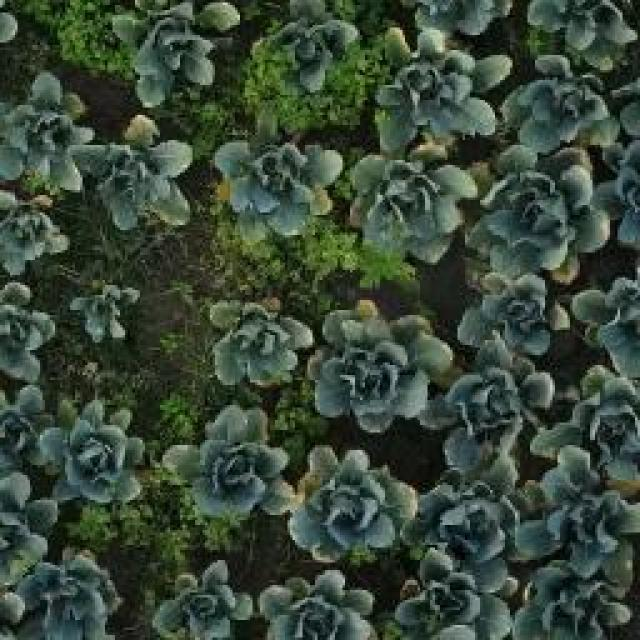cabbage: (311, 296, 452, 431), (284, 443, 414, 562), (157, 405, 289, 521), (374, 25, 499, 143), (432, 350, 558, 464), (522, 457, 640, 575), (356, 147, 474, 264), (214, 138, 344, 244), (78, 114, 193, 228), (111, 0, 242, 100), (478, 150, 588, 268), (38, 398, 145, 509), (454, 268, 570, 368), (395, 542, 513, 640), (503, 52, 618, 151), (413, 469, 524, 571), (210, 291, 314, 388), (516, 558, 639, 640), (0, 75, 82, 190), (22, 547, 122, 640), (145, 552, 250, 640), (541, 374, 640, 466), (260, 0, 354, 95), (262, 567, 376, 640), (572, 272, 640, 368), (0, 193, 66, 272), (0, 278, 50, 382), (68, 283, 146, 347)
